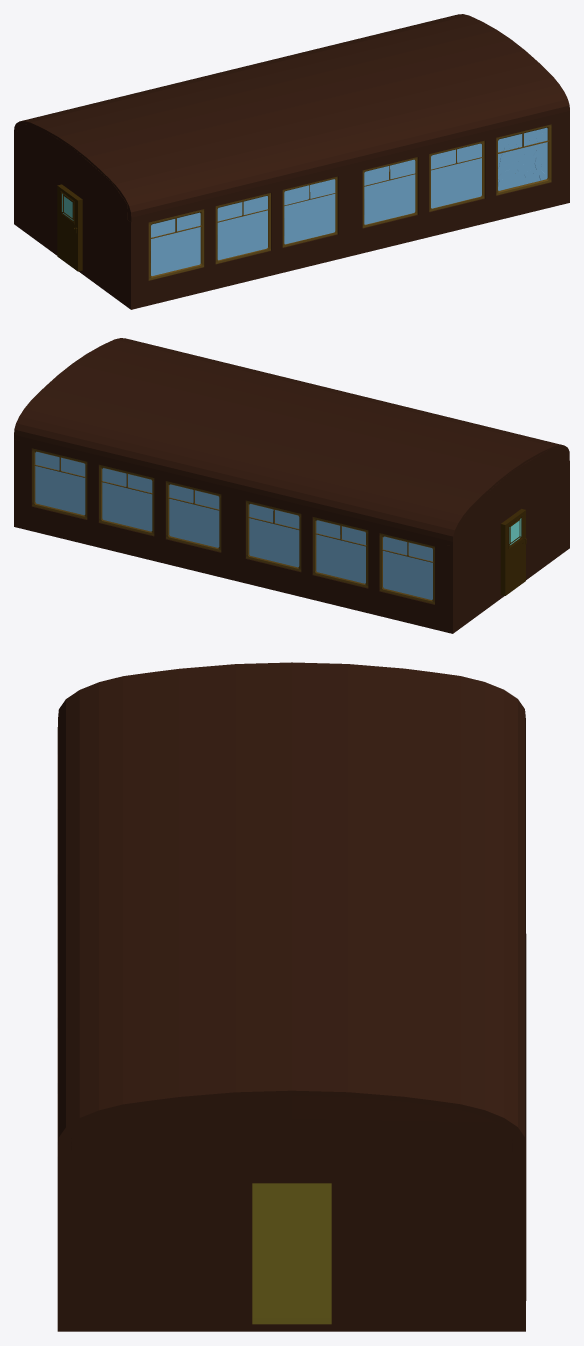
Rendered from SideRoomWagonn.fbx.
3 views of the same model, one above another, from view 1: azimuth 30°, elevation 25°; view 2: azimuth 150°, elevation 25°; view 3: azimuth 270°, elevation 25° (orthographic). The views are drawn at different scales.
Parts seen in each view (by area): view 1: SideRoomWagon, WindowGlass.008, WindowGlass.009, WindowGlass.010, WindowGlass.007, WindowGlass.006, Door, BrokenGlass_3.011, BrokenGlass_7.011, BrokenGlass_6.011; view 2: SideRoomWagon, WindowGlass.004, WindowGlass.005, WindowGlass.003, WindowGlass.002, WindowGlass, WindowGlass.001, Door; view 3: SideRoomWagon.
Part boxes in pixels (x1,y1,x2,y2): SideRoomWagon: [14, 14, 569, 309]; WindowGlass.008: [284, 179, 335, 244]; WindowGlass.009: [364, 159, 415, 224]; WindowGlass.010: [431, 143, 481, 208]; WindowGlass.007: [217, 196, 267, 260]; WindowGlass.006: [151, 212, 200, 275]; Door: [57, 184, 82, 271]; BrokenGlass_3.011: [498, 127, 547, 190]; BrokenGlass_7.011: [498, 146, 536, 181]; BrokenGlass_6.011: [498, 136, 547, 187]; SideRoomWagon: [14, 338, 569, 633]; WindowGlass.004: [102, 468, 152, 531]; WindowGlass.005: [35, 451, 85, 515]; WindowGlass.003: [169, 484, 219, 547]; WindowGlass.002: [249, 504, 299, 567]; WindowGlass: [383, 536, 432, 599]; WindowGlass.001: [316, 520, 365, 583]; Door: [500, 509, 526, 595]; SideRoomWagon: [57, 662, 526, 1331].
Size of the model in its own units: 2804 by 1591 by 6148.
